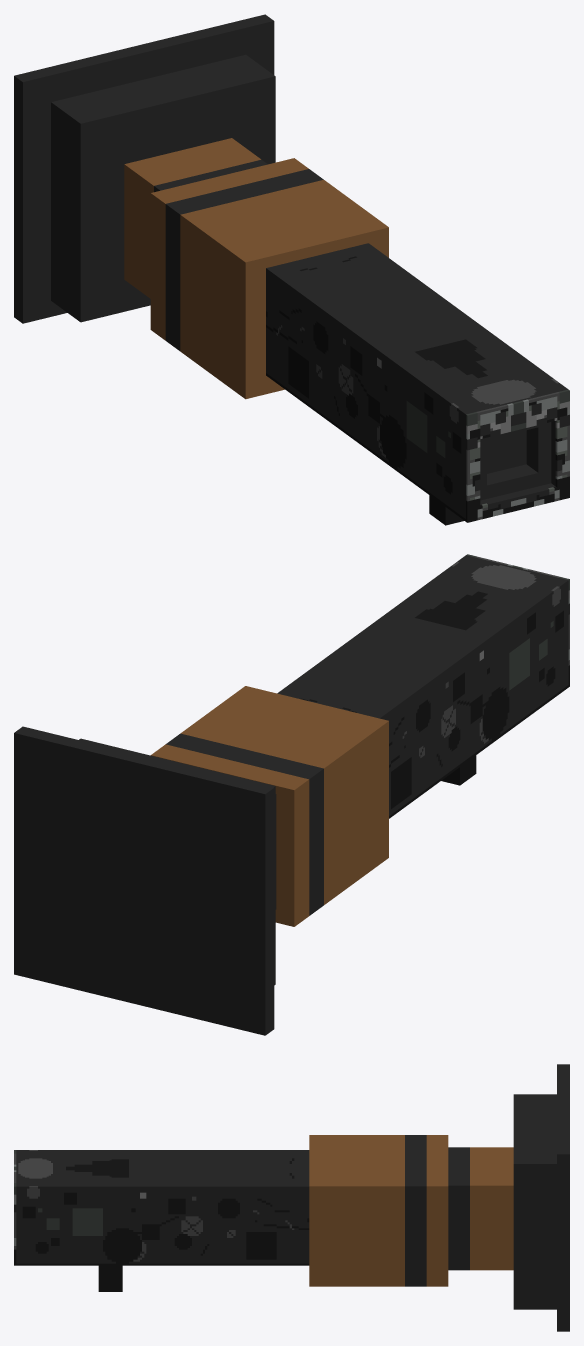
Rendered from Rocket Launcher.obj.
3 views of the same model, one above another, from view 1: azimuth 30°, elevation 25°; view 2: azimuth 150°, elevation 25°; view 3: azimuth 270°, elevation 25° (orthographic). The views are drawn at different scales.
Bounding box in the file's own units: 9.8 × 9 × 25.6.
